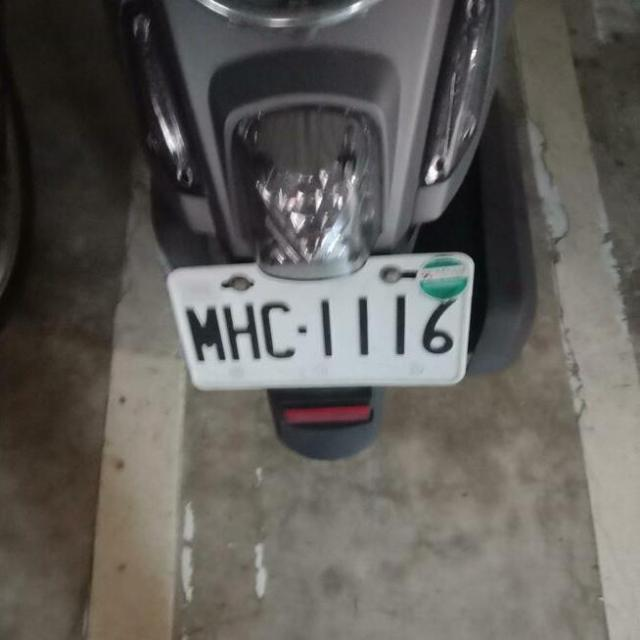W: (161, 235, 484, 407)
